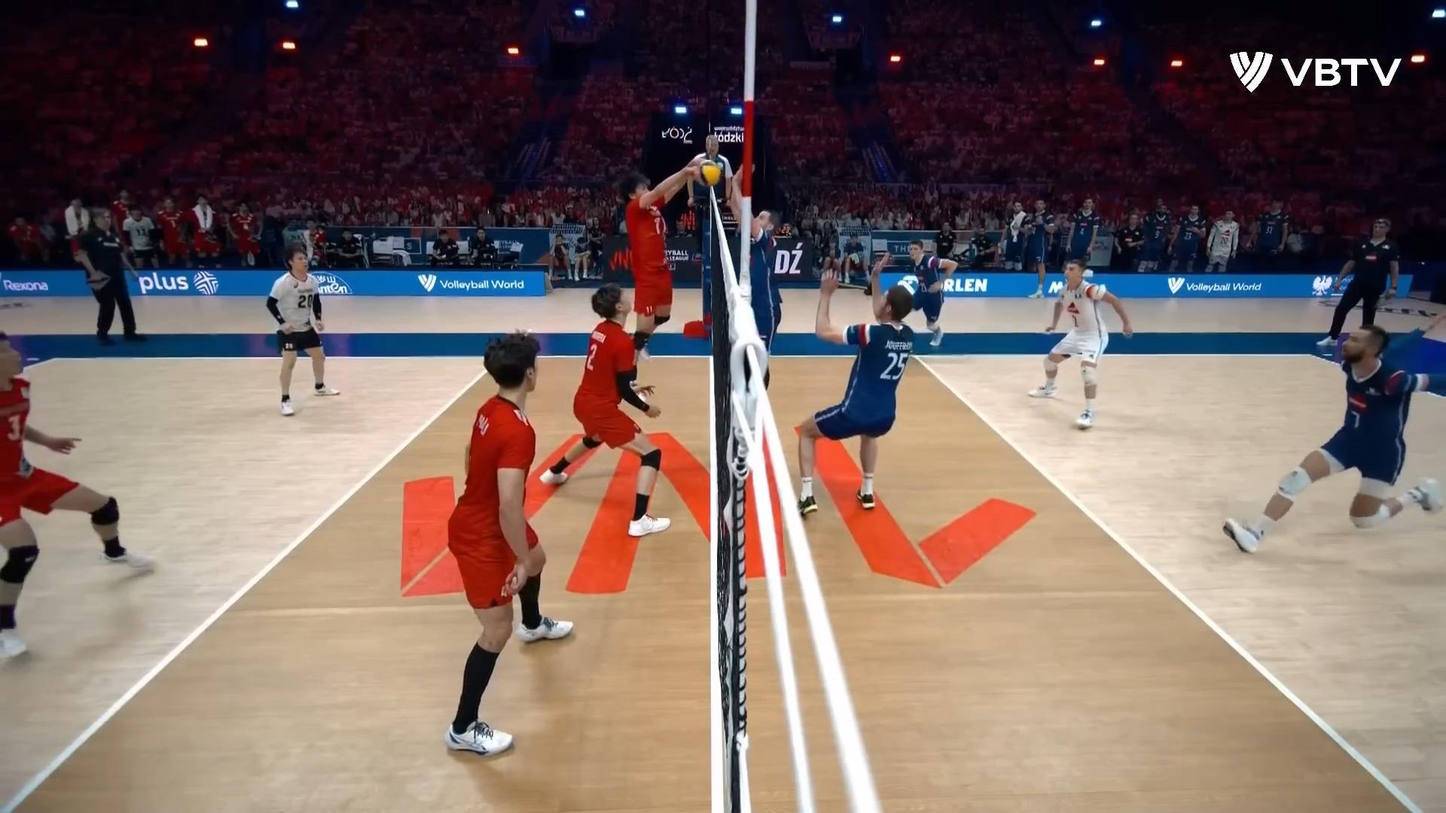ball: (696, 160, 727, 189)
